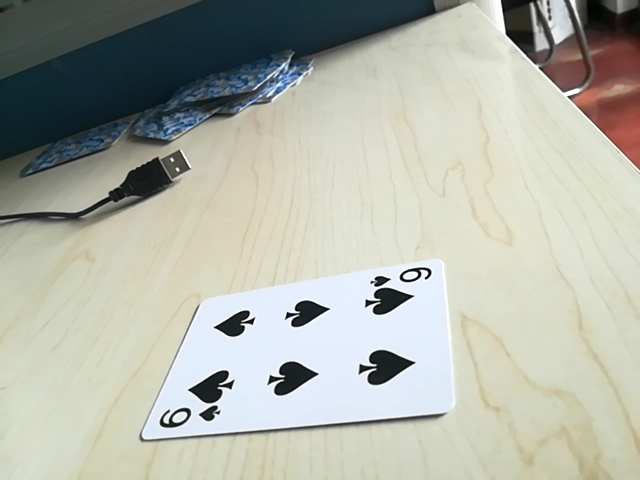ht 6: (148, 403, 228, 434), (371, 264, 438, 292)
